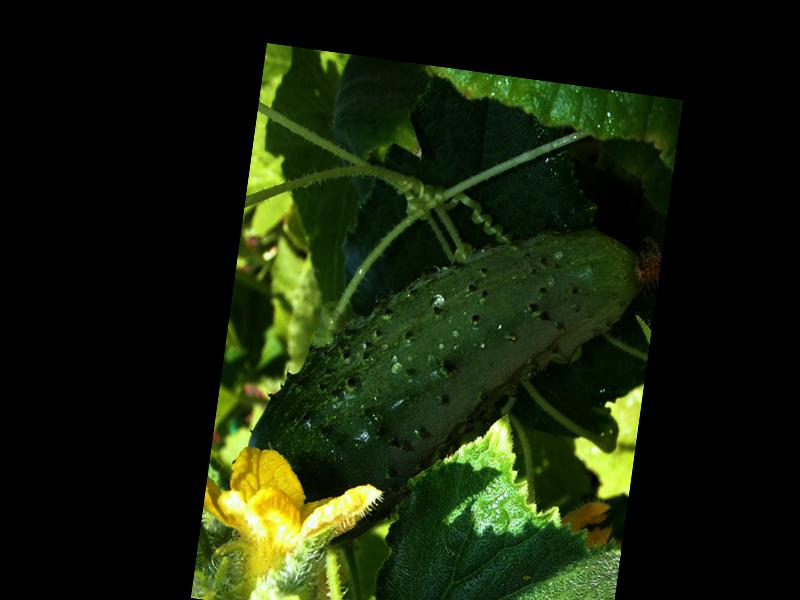Cucumber: (236, 186, 663, 584)
